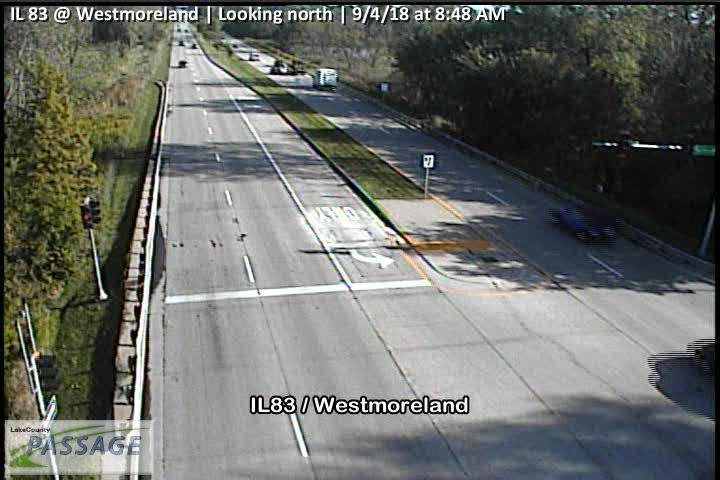Sedan: (552, 204, 618, 241)
Truck: (312, 67, 340, 93)
